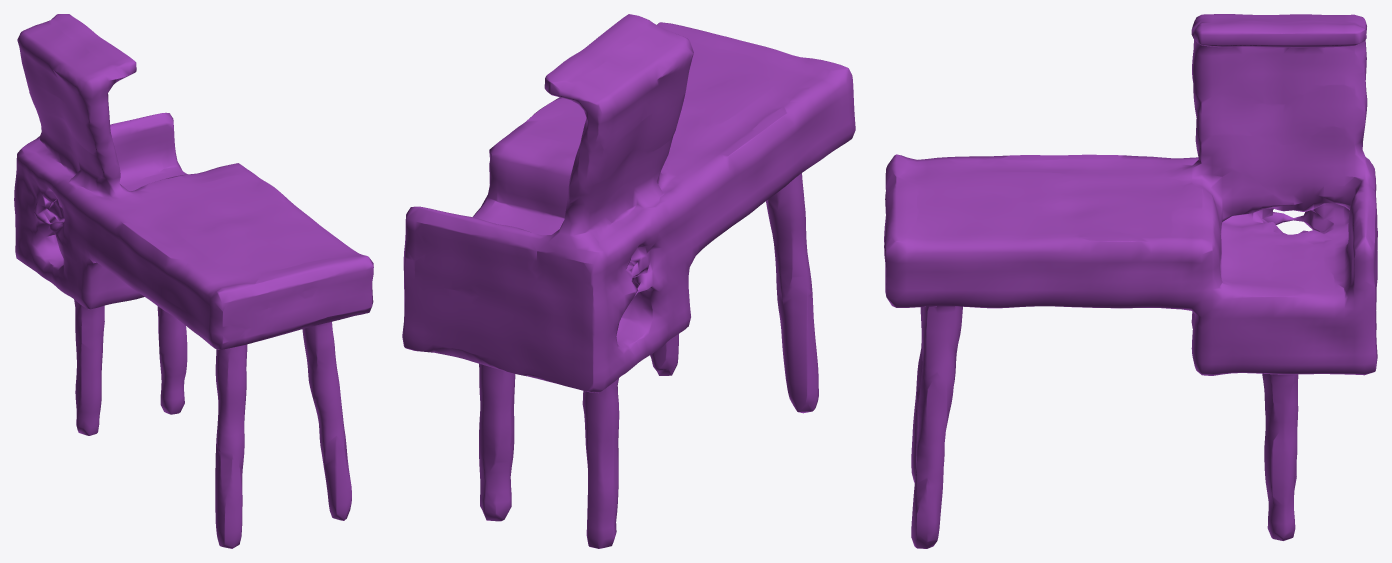
File: table_11_1.obj
3 views of the same model, side by side, from view 1: azimuth 30°, elevation 25°; view 2: azimuth 150°, elevation 25°; view 3: azimuth 270°, elevation 25° (orthographic). The views are drawn at different scales.
Size of the model in its own units: 0.3454 by 0.7968 by 0.7584.
